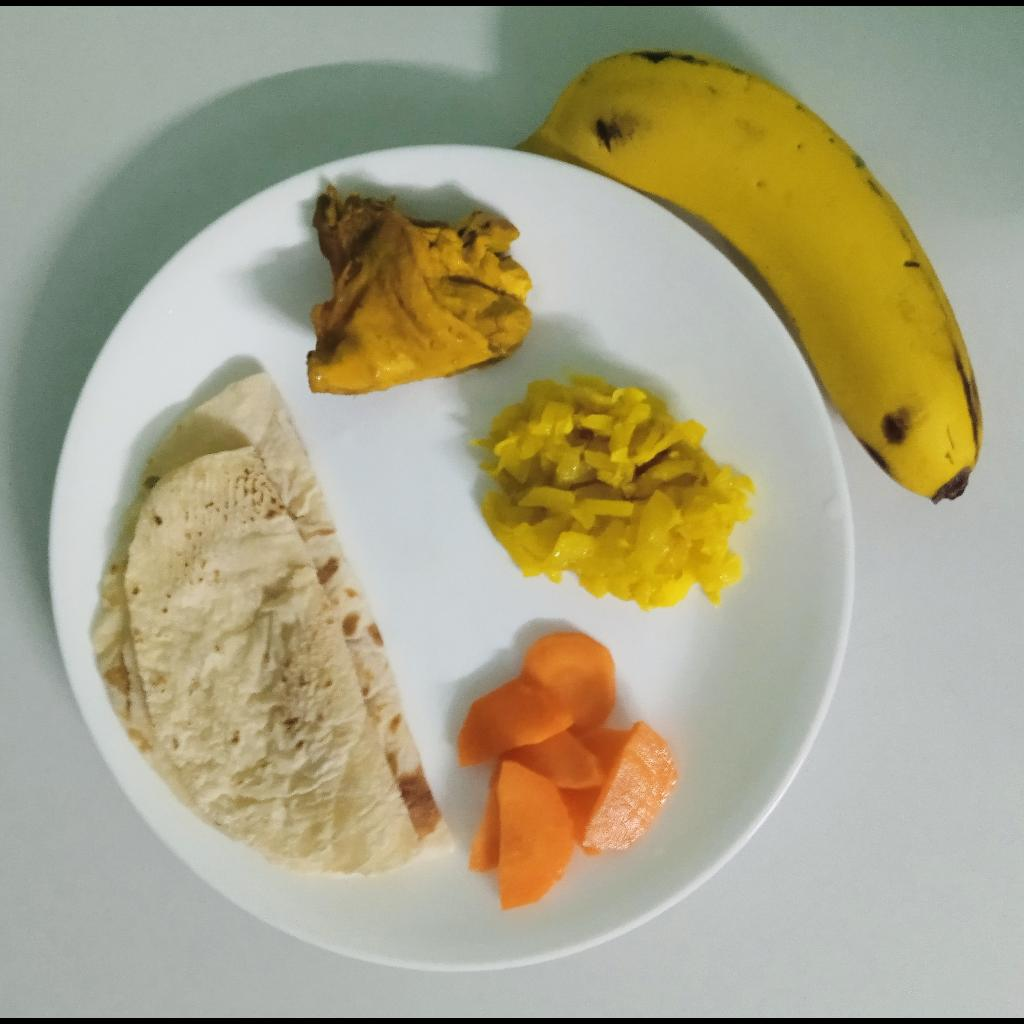banana: (516, 47, 986, 510)
carrot: (454, 632, 689, 913)
chicken: (304, 187, 531, 397)
papaya: (462, 372, 758, 611)
ruti: (92, 372, 447, 877)
